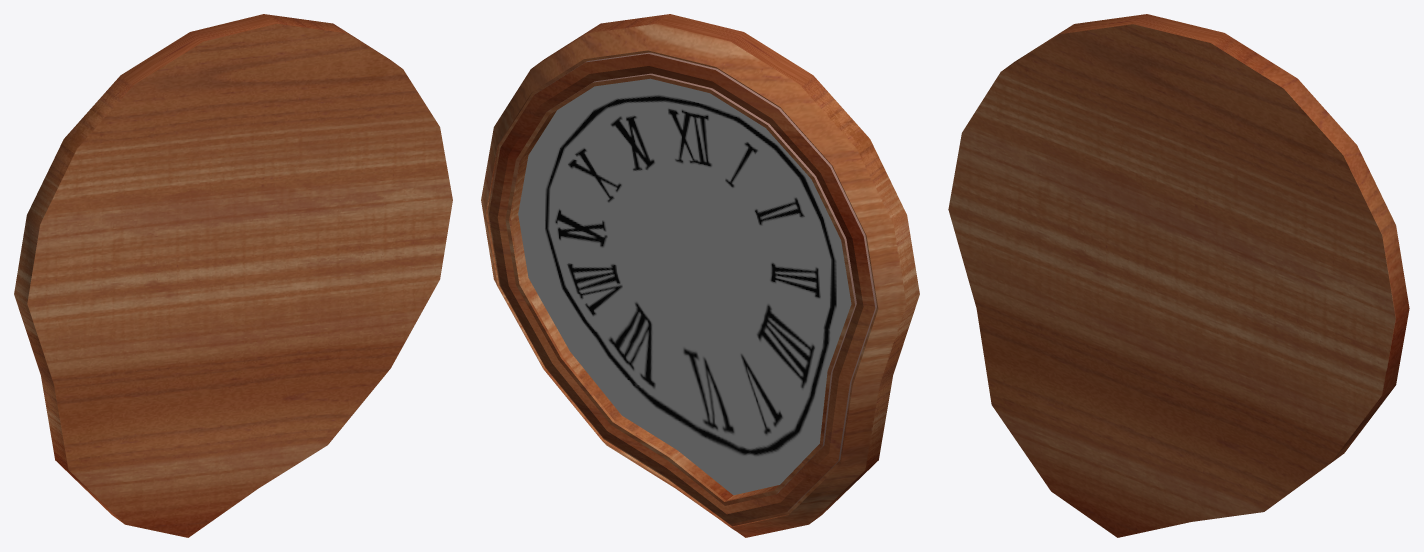
File: hologe_fondue.fbx
3 views of the same model, side by side, from view 1: azimuth 30°, elevation 25°; view 2: azimuth 150°, elevation 25°; view 3: azimuth 330°, elevation 25° (orthographic). The views are drawn at different scales.
Visible parts, largest first — view 1: Object007; view 2: Object007; view 3: Object007.
Boxes of the visible parts, box(x1,y1,x2,y2) form: Object007: box(14, 14, 452, 537); Object007: box(481, 14, 919, 537); Object007: box(948, 14, 1409, 537).
Size of the model in its own units: 155 by 171 by 16.94.
